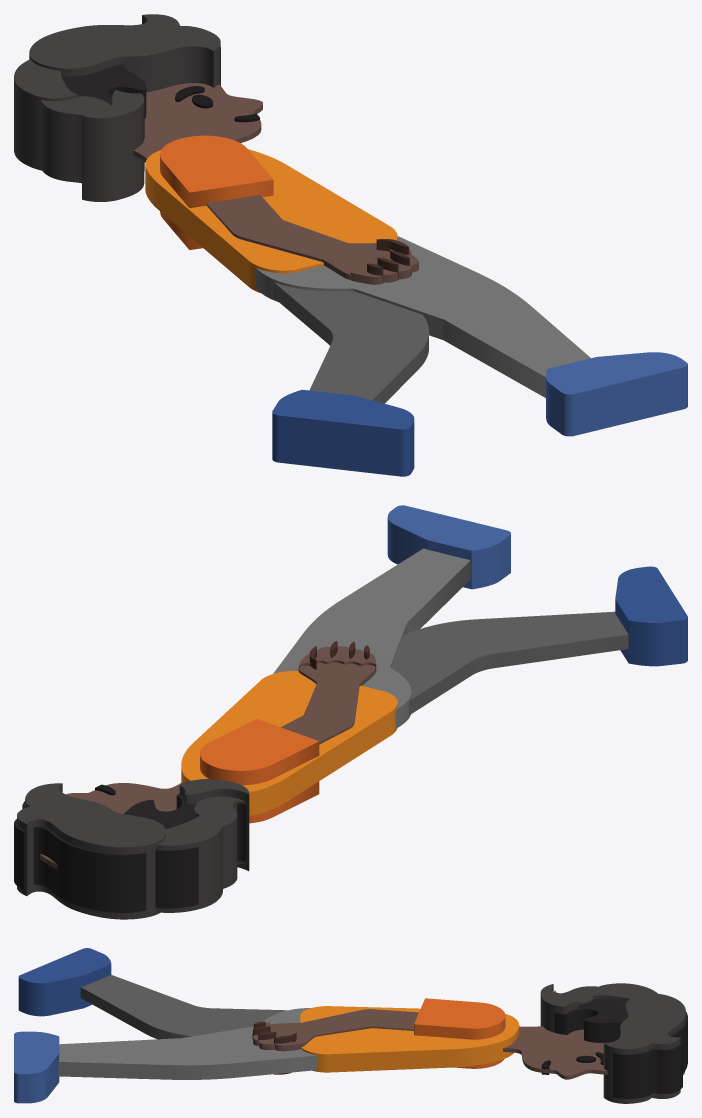
Rendered from emoji_u1f6b6_1f3ff_200d_27a1.glb.
The picture shows the model from 3 angles, top to bottom: view 1: azimuth 30°, elevation 25°; view 2: azimuth 150°, elevation 25°; view 3: azimuth 270°, elevation 25°; orthographic projection. The views are drawn at different scales.
Visible parts, largest first — view 1: emoji_u1f6b6_1f3ff_200d_27a1; view 2: emoji_u1f6b6_1f3ff_200d_27a1; view 3: emoji_u1f6b6_1f3ff_200d_27a1.
Boxes of the visible parts, x1,y1,x2,y2 form: emoji_u1f6b6_1f3ff_200d_27a1: (14,14,687,476); emoji_u1f6b6_1f3ff_200d_27a1: (14,505,687,919); emoji_u1f6b6_1f3ff_200d_27a1: (14,948,687,1103).
Size of the model in its own units: 0.0146 by 0.0032 by 0.0334.
